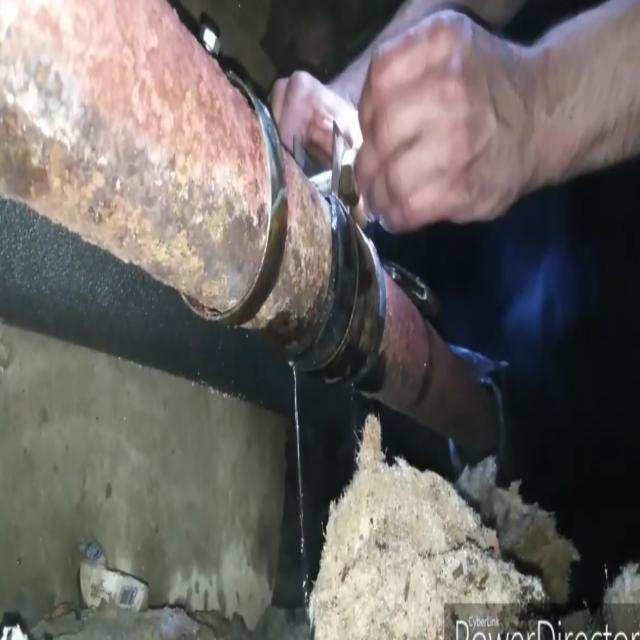leak: (293, 362, 308, 606)
